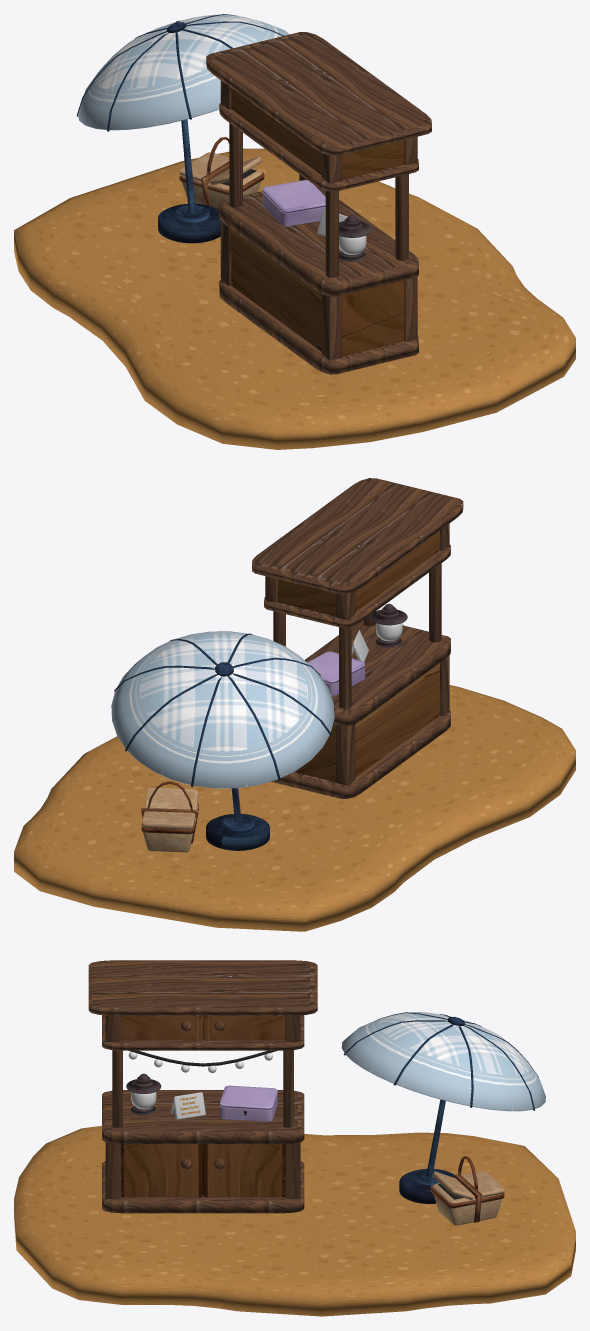
File: Grannys Selling Station.fbx
The picture shows the model from 3 angles, top to bottom: view 1: azimuth 30°, elevation 25°; view 2: azimuth 150°, elevation 25°; view 3: azimuth 270°, elevation 25°; orthographic projection. The views are drawn at different scales.
Parts seen in each view (by area): view 1: Cube.020, Cube.010, Sphere, Cube.001, Cube.003, Cube.002, Cube, Cube.008, Cube.009, Cube.004, Cube.012, Cylinder.001 (+9 smaller); view 2: Cube.020, Sphere, Cube.010, Cube.001, Cube.003, Cube, Cube.008, Cube.009, Sphere.002, Cube.012, Cube.004, Cylinder.001 (+7 smaller); view 3: Cube.020, Sphere, Cube.010, Cube.006, Cube.001, Cube.015, Cube, Cube.009, Cube.005, Cube.008, Cube.021, Cube.019 (+9 smaller).
Part boxes in pixels (left/top/right/bottom): Cube.020: left=14, top=148, right=575, bottom=449; Cube.010: left=206, top=32, right=431, bottom=155; Sphere: left=78, top=14, right=289, bottom=130; Cube.001: left=219, top=185, right=418, bottom=296; Cube.003: left=231, top=229, right=321, bottom=351; Cube.002: left=341, top=280, right=404, bottom=356; Cube: left=219, top=280, right=418, bottom=374; Cube.008: left=229, top=123, right=408, bottom=277; Cube.009: left=219, top=103, right=418, bottom=191; Cube.004: left=220, top=220, right=341, bottom=360; Cube.012: left=231, top=88, right=321, bottom=174; Cylinder.001: left=158, top=203, right=220, bottom=243; Cube.020: left=14, top=685, right=575, bottom=931; Sphere: left=111, top=631, right=334, bottom=788; Cube.010: left=252, top=478, right=463, bottom=594; Cube.001: left=304, top=620, right=450, bottom=725; Cube.003: left=355, top=663, right=439, bottom=777; Cube: left=271, top=711, right=450, bottom=798; Cube.008: left=273, top=563, right=441, bottom=708; Cube.009: left=264, top=545, right=450, bottom=627; Sphere.002: left=114, top=633, right=331, bottom=786; Cube.012: left=355, top=530, right=439, bottom=611; Cube.004: left=336, top=655, right=449, bottom=785; Cylinder.001: left=206, top=813, right=269, bottom=850; Cube.020: left=14, top=1126, right=575, bottom=1316; Sphere: left=341, top=1012, right=545, bottom=1111; Cube.010: left=88, top=960, right=317, bottom=1015; Cube.006: left=121, top=1144, right=285, bottom=1197; Cube.001: left=102, top=1090, right=304, bottom=1143; Cube.015: left=121, top=1015, right=285, bottom=1040; Cube: left=102, top=1161, right=304, bottom=1213; Cube.009: left=102, top=1015, right=304, bottom=1050; Cube.005: left=105, top=1142, right=300, bottom=1199; Cube.008: left=112, top=1050, right=293, bottom=1127; Cube.021: left=432, top=1183, right=502, bottom=1225; Cube.019: left=220, top=1085, right=277, bottom=1109.
Size of the model in its own units: 820 by 518 by 1110.
